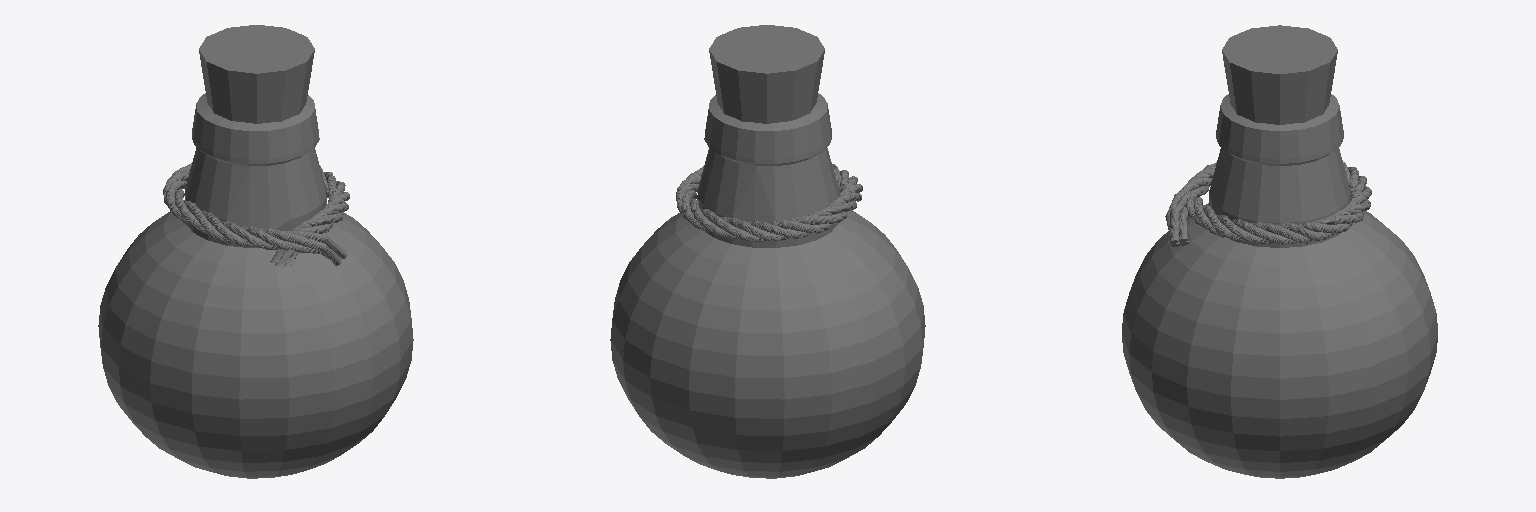
The model's file is pocao.obj.
The picture shows the model from 3 angles: view 1: azimuth 30°, elevation 25°; view 2: azimuth 150°, elevation 25°; view 3: azimuth 270°, elevation 25°; orthographic projection.
Visible parts, largest first — view 1: polySurface97; view 2: polySurface97; view 3: polySurface97.
Boxes of the visible parts, x1,y1,x2,y2 form: polySurface97: [98, 25, 413, 478]; polySurface97: [610, 25, 925, 478]; polySurface97: [1122, 25, 1437, 478].
Size of the model in its own units: 4.68 by 6.73 by 4.68.